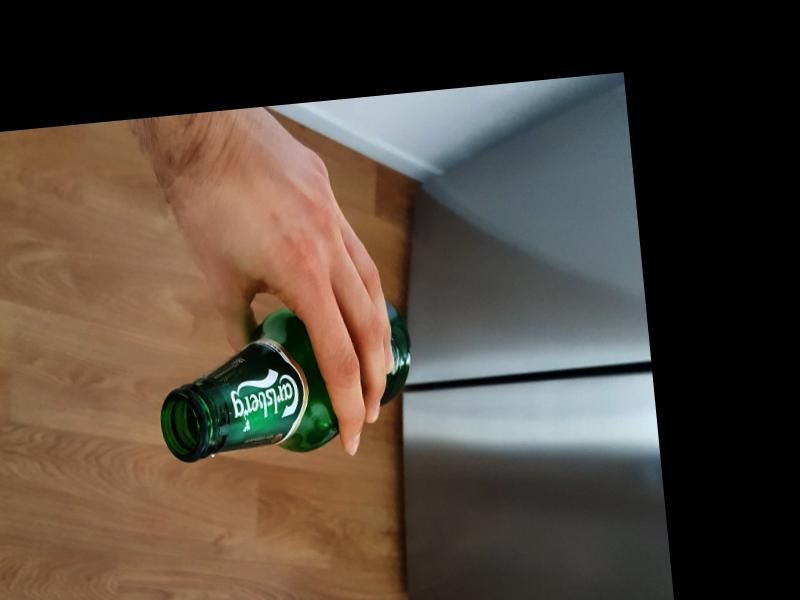Beer: (150, 298, 418, 464)
